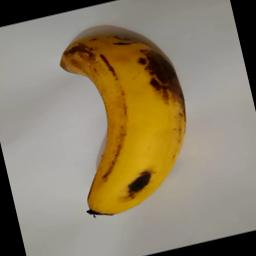Banana Unripe: (46, 15, 208, 216)
